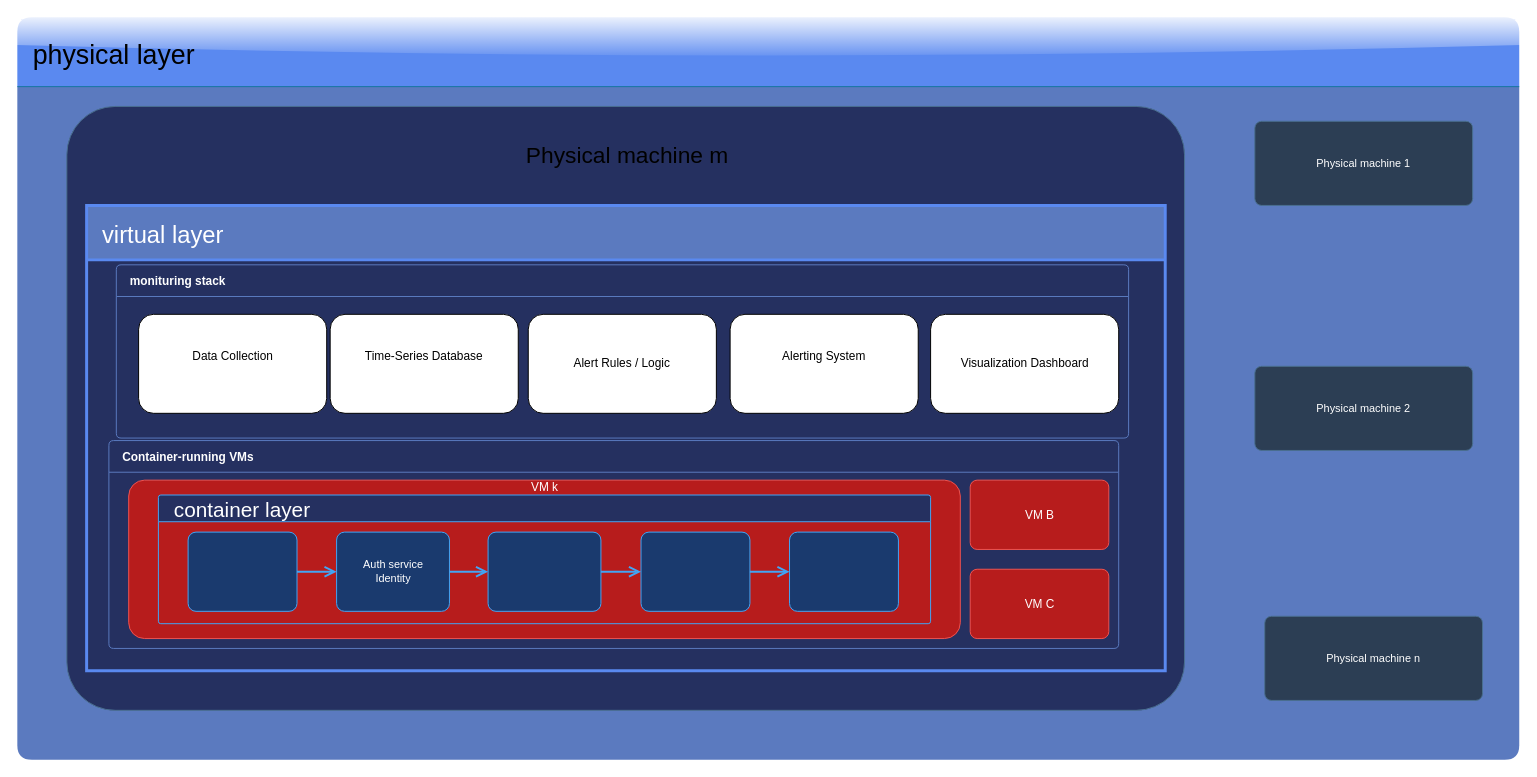
Some shapes in this 1537 by 777 pixel diagram are drawn without their labels. The centre of each missing label's shape, as x and y in pixels:
"API gateway Entry point" goes at pixel 242 571.
"Data service Persistence" goes at pixel 544 571.
"Notif service Messaging" goes at pixel 843 571.
"Worker service Background jobs" goes at pixel 695 571.
